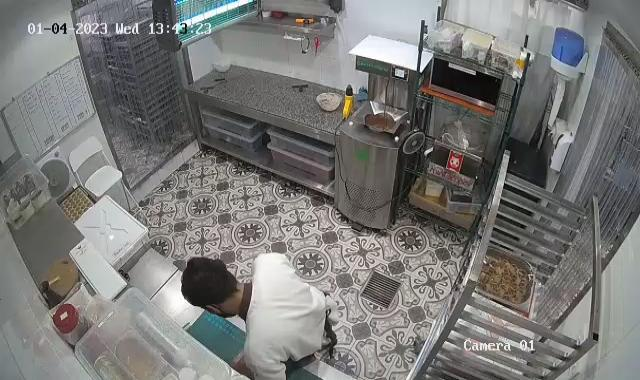no_hairnet: (181, 257, 239, 318)
